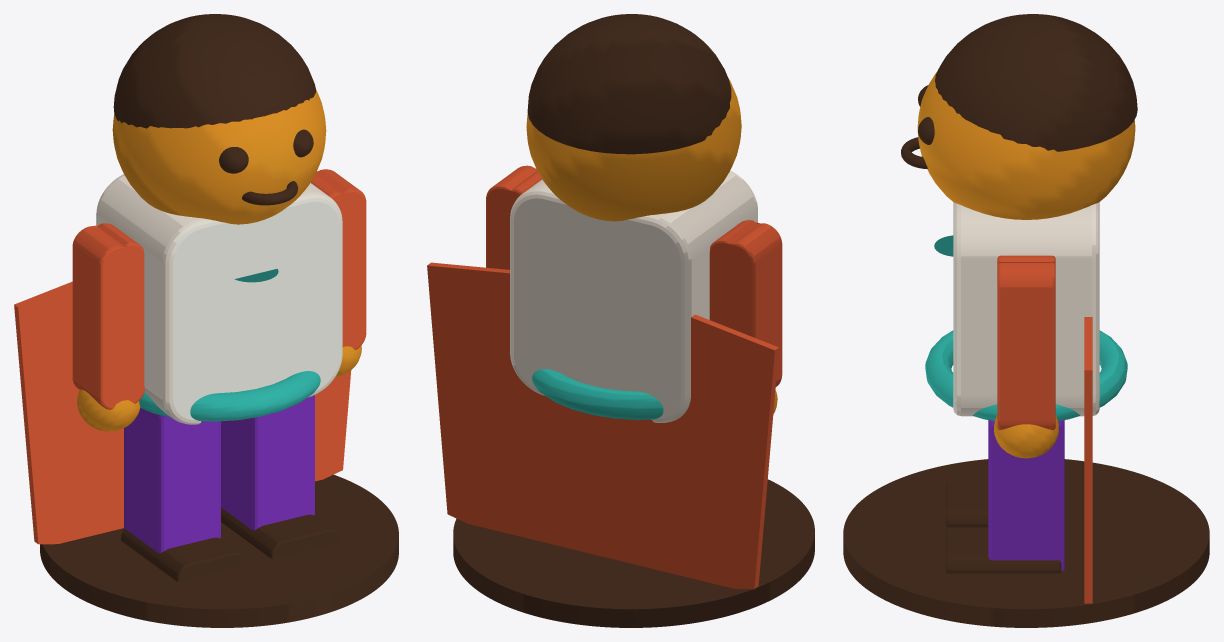
The model's file is 0777_天气与气候图鉴_避雷针.glb.
3 renders of one model, left to right at view 1: azimuth 30°, elevation 25°; view 2: azimuth 150°, elevation 25°; view 3: azimuth 270°, elevation 25°, orthographic.
Parts seen in each view (by area): view 1: card_0777; view 2: card_0777; view 3: card_0777.
Boxes of the visible parts, x1,y1,x2,y2 form: card_0777: (14,14,398,627); card_0777: (427,14,814,627); card_0777: (843,14,1209,627).
Bounding box in the file's own units: 0.6739 × 1 × 0.6155.
